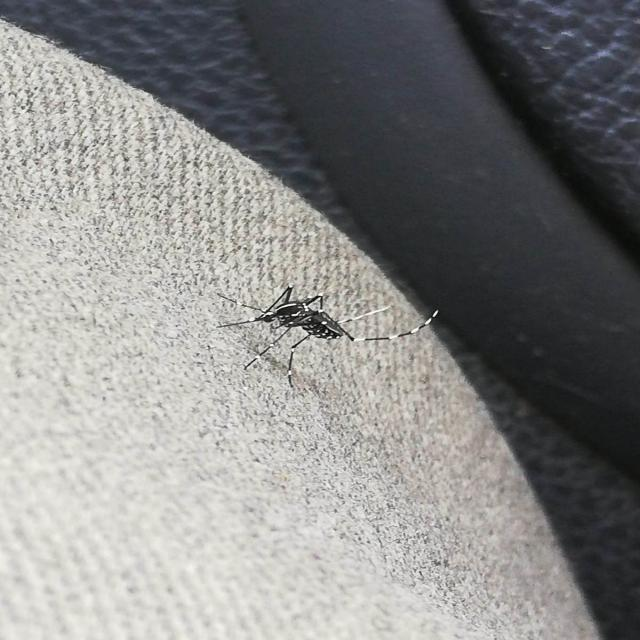albopictus: (210, 272, 444, 391)
